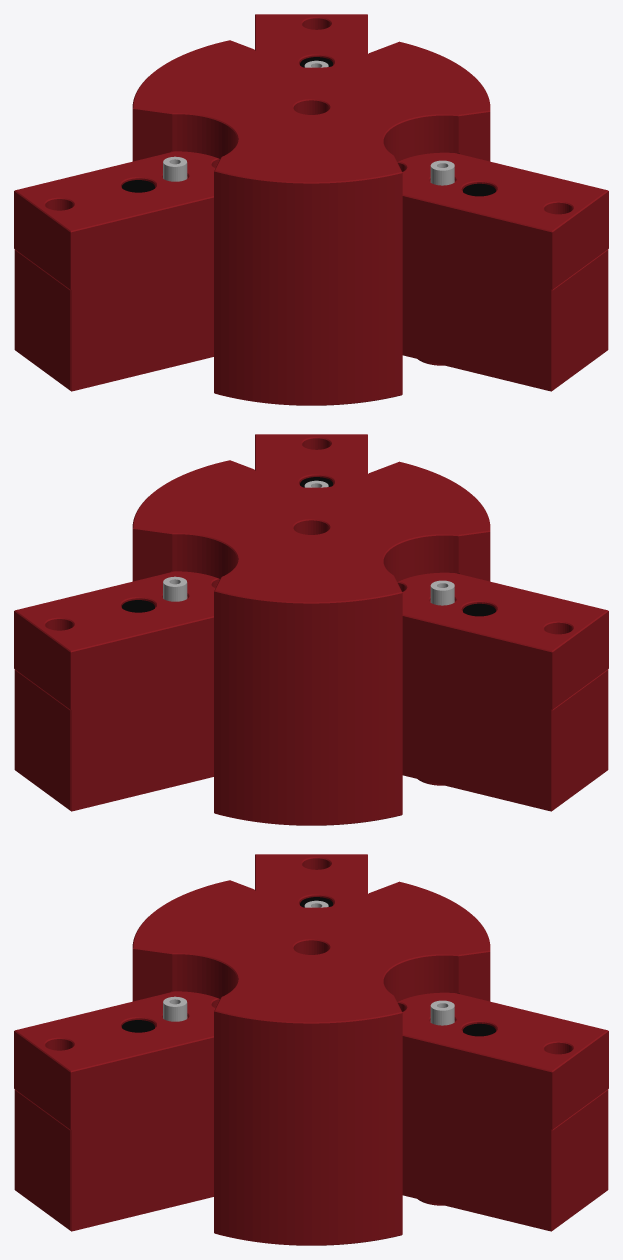
3 views of the same model, one above another, from view 1: azimuth 30°, elevation 25°; view 2: azimuth 150°, elevation 25°; view 3: azimuth 270°, elevation 25° (orthographic).
Visible parts, largest first — view 1: base_link.001; view 2: base_link.001; view 3: base_link.001.
Boxes of the visible parts, x1,y1,x2,y2 form: base_link.001: [14, 14, 608, 405]; base_link.001: [14, 434, 608, 825]; base_link.001: [14, 854, 608, 1245].
Bounding box in the file's own units: 101 × 116 × 48.25.
